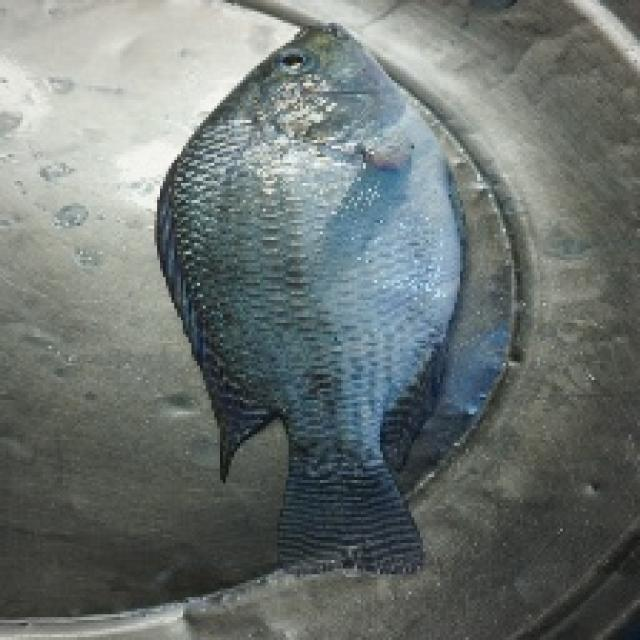Fresh: (114, 0, 488, 603)
